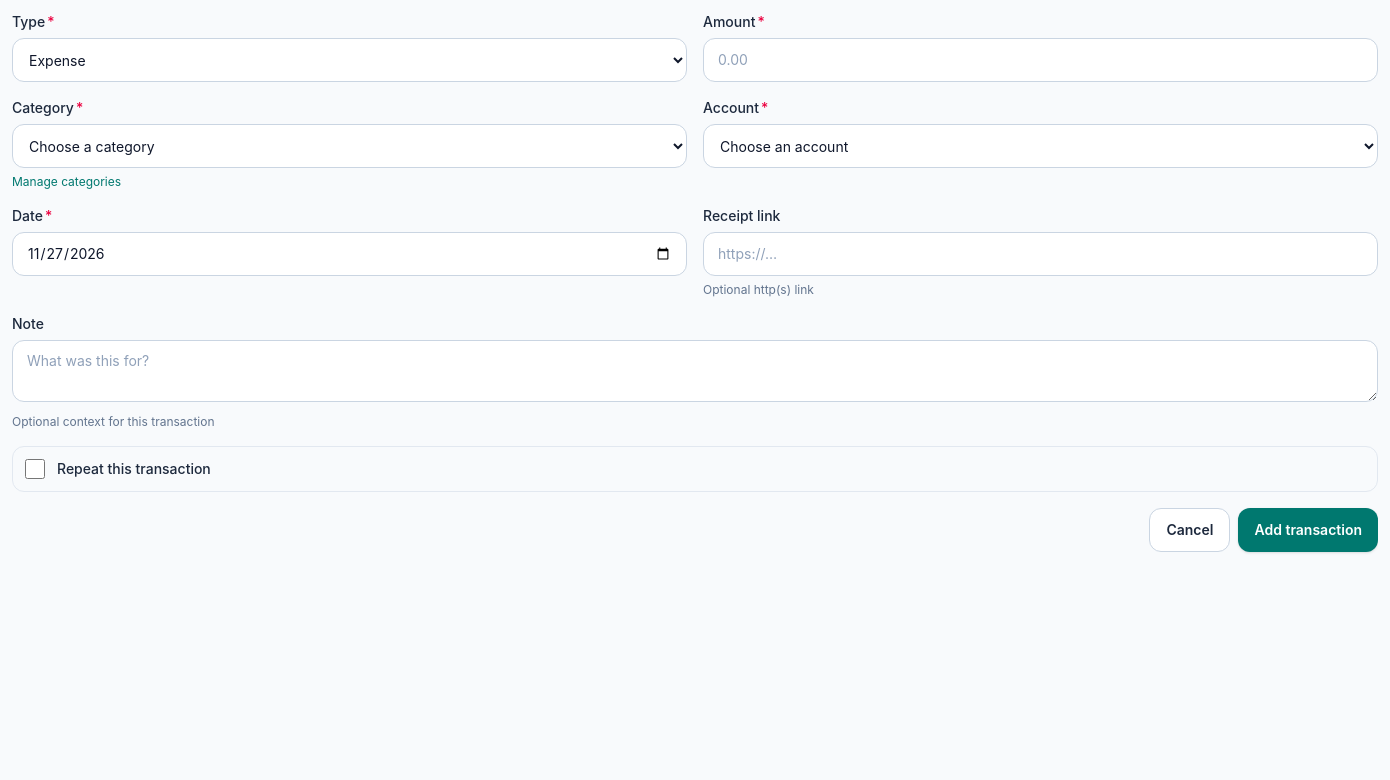
it: TransactionForm › blocks invalid submissions with inline errors
Click the button "Add transaction" at (1308, 530), box 1238,508 -> 1378,552
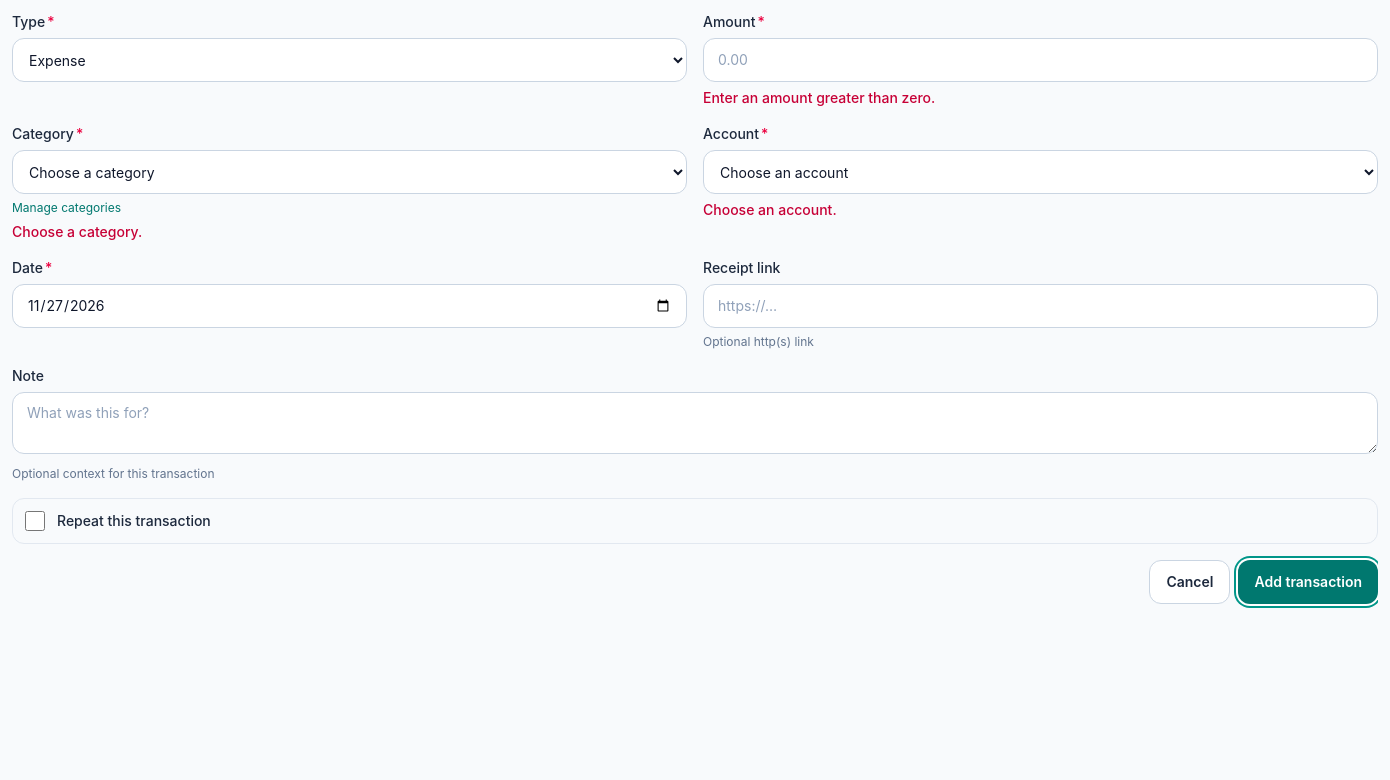
expect the text "Enter an amount greater than zero." is shown: met, box 703,89 -> 935,106
expect the text "Choose a category." is shown: met, box 12,223 -> 142,240
expect the text "Choose an account." is shown: met, box 703,201 -> 837,218
